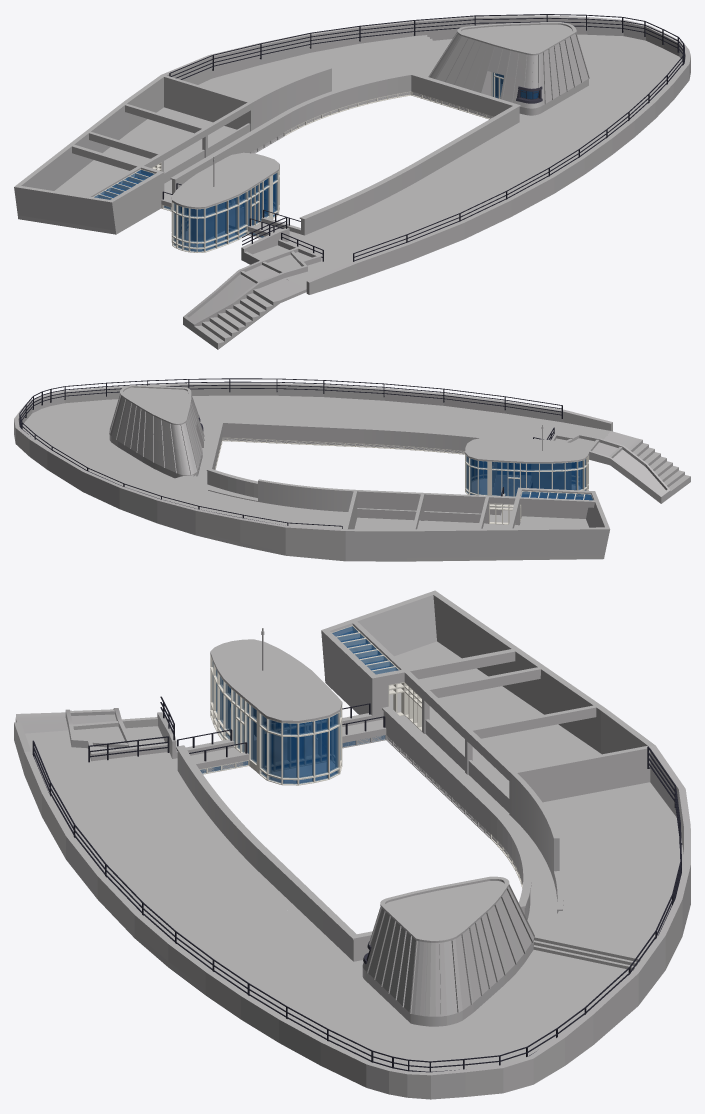
The picture shows the model from 3 angles, top to bottom: view 1: azimuth 30°, elevation 25°; view 2: azimuth 150°, elevation 25°; view 3: azimuth 270°, elevation 25°; orthographic projection. The views are drawn at different scales.
Parts seen in each view (by area): view 1: GIMC_RF; view 2: GIMC_RF; view 3: GIMC_RF.
Part boxes in pixels (x1=…): GIMC_RF: x1=14, y1=14, x2=690, y2=349; GIMC_RF: x1=14, y1=378, x2=690, y2=561; GIMC_RF: x1=14, y1=590, x2=690, y2=1099.
Size of the model in its own units: 156 by 24.26 by 96.69.
Materials: 2 (2 with a texture image).
